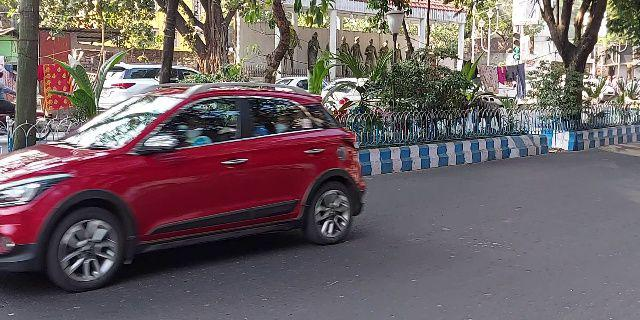Car: (1, 79, 367, 292)
